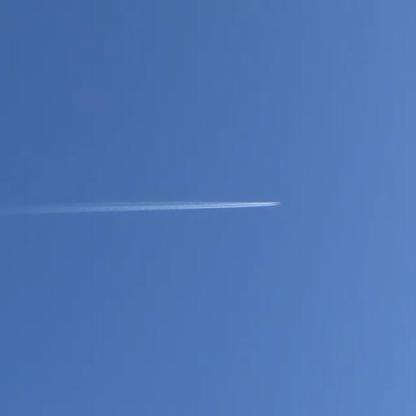CIV_Plane: (276, 198, 285, 212)
